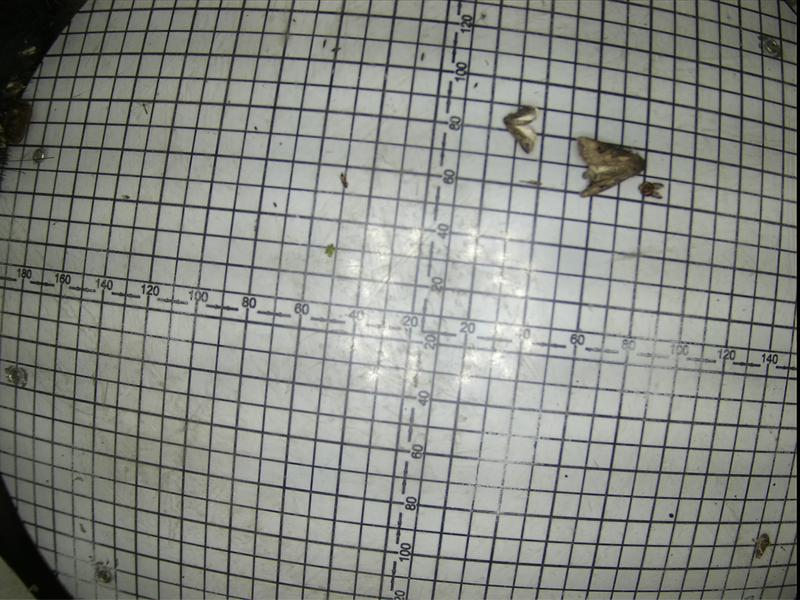Land tiger: (573, 134, 651, 207)
